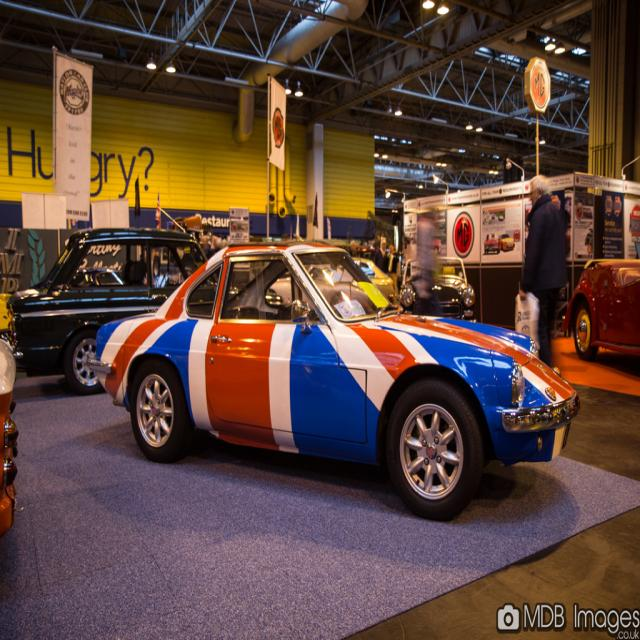other: (87, 239, 578, 526), (5, 225, 286, 400), (263, 246, 401, 313), (561, 252, 640, 363), (404, 250, 477, 324)
